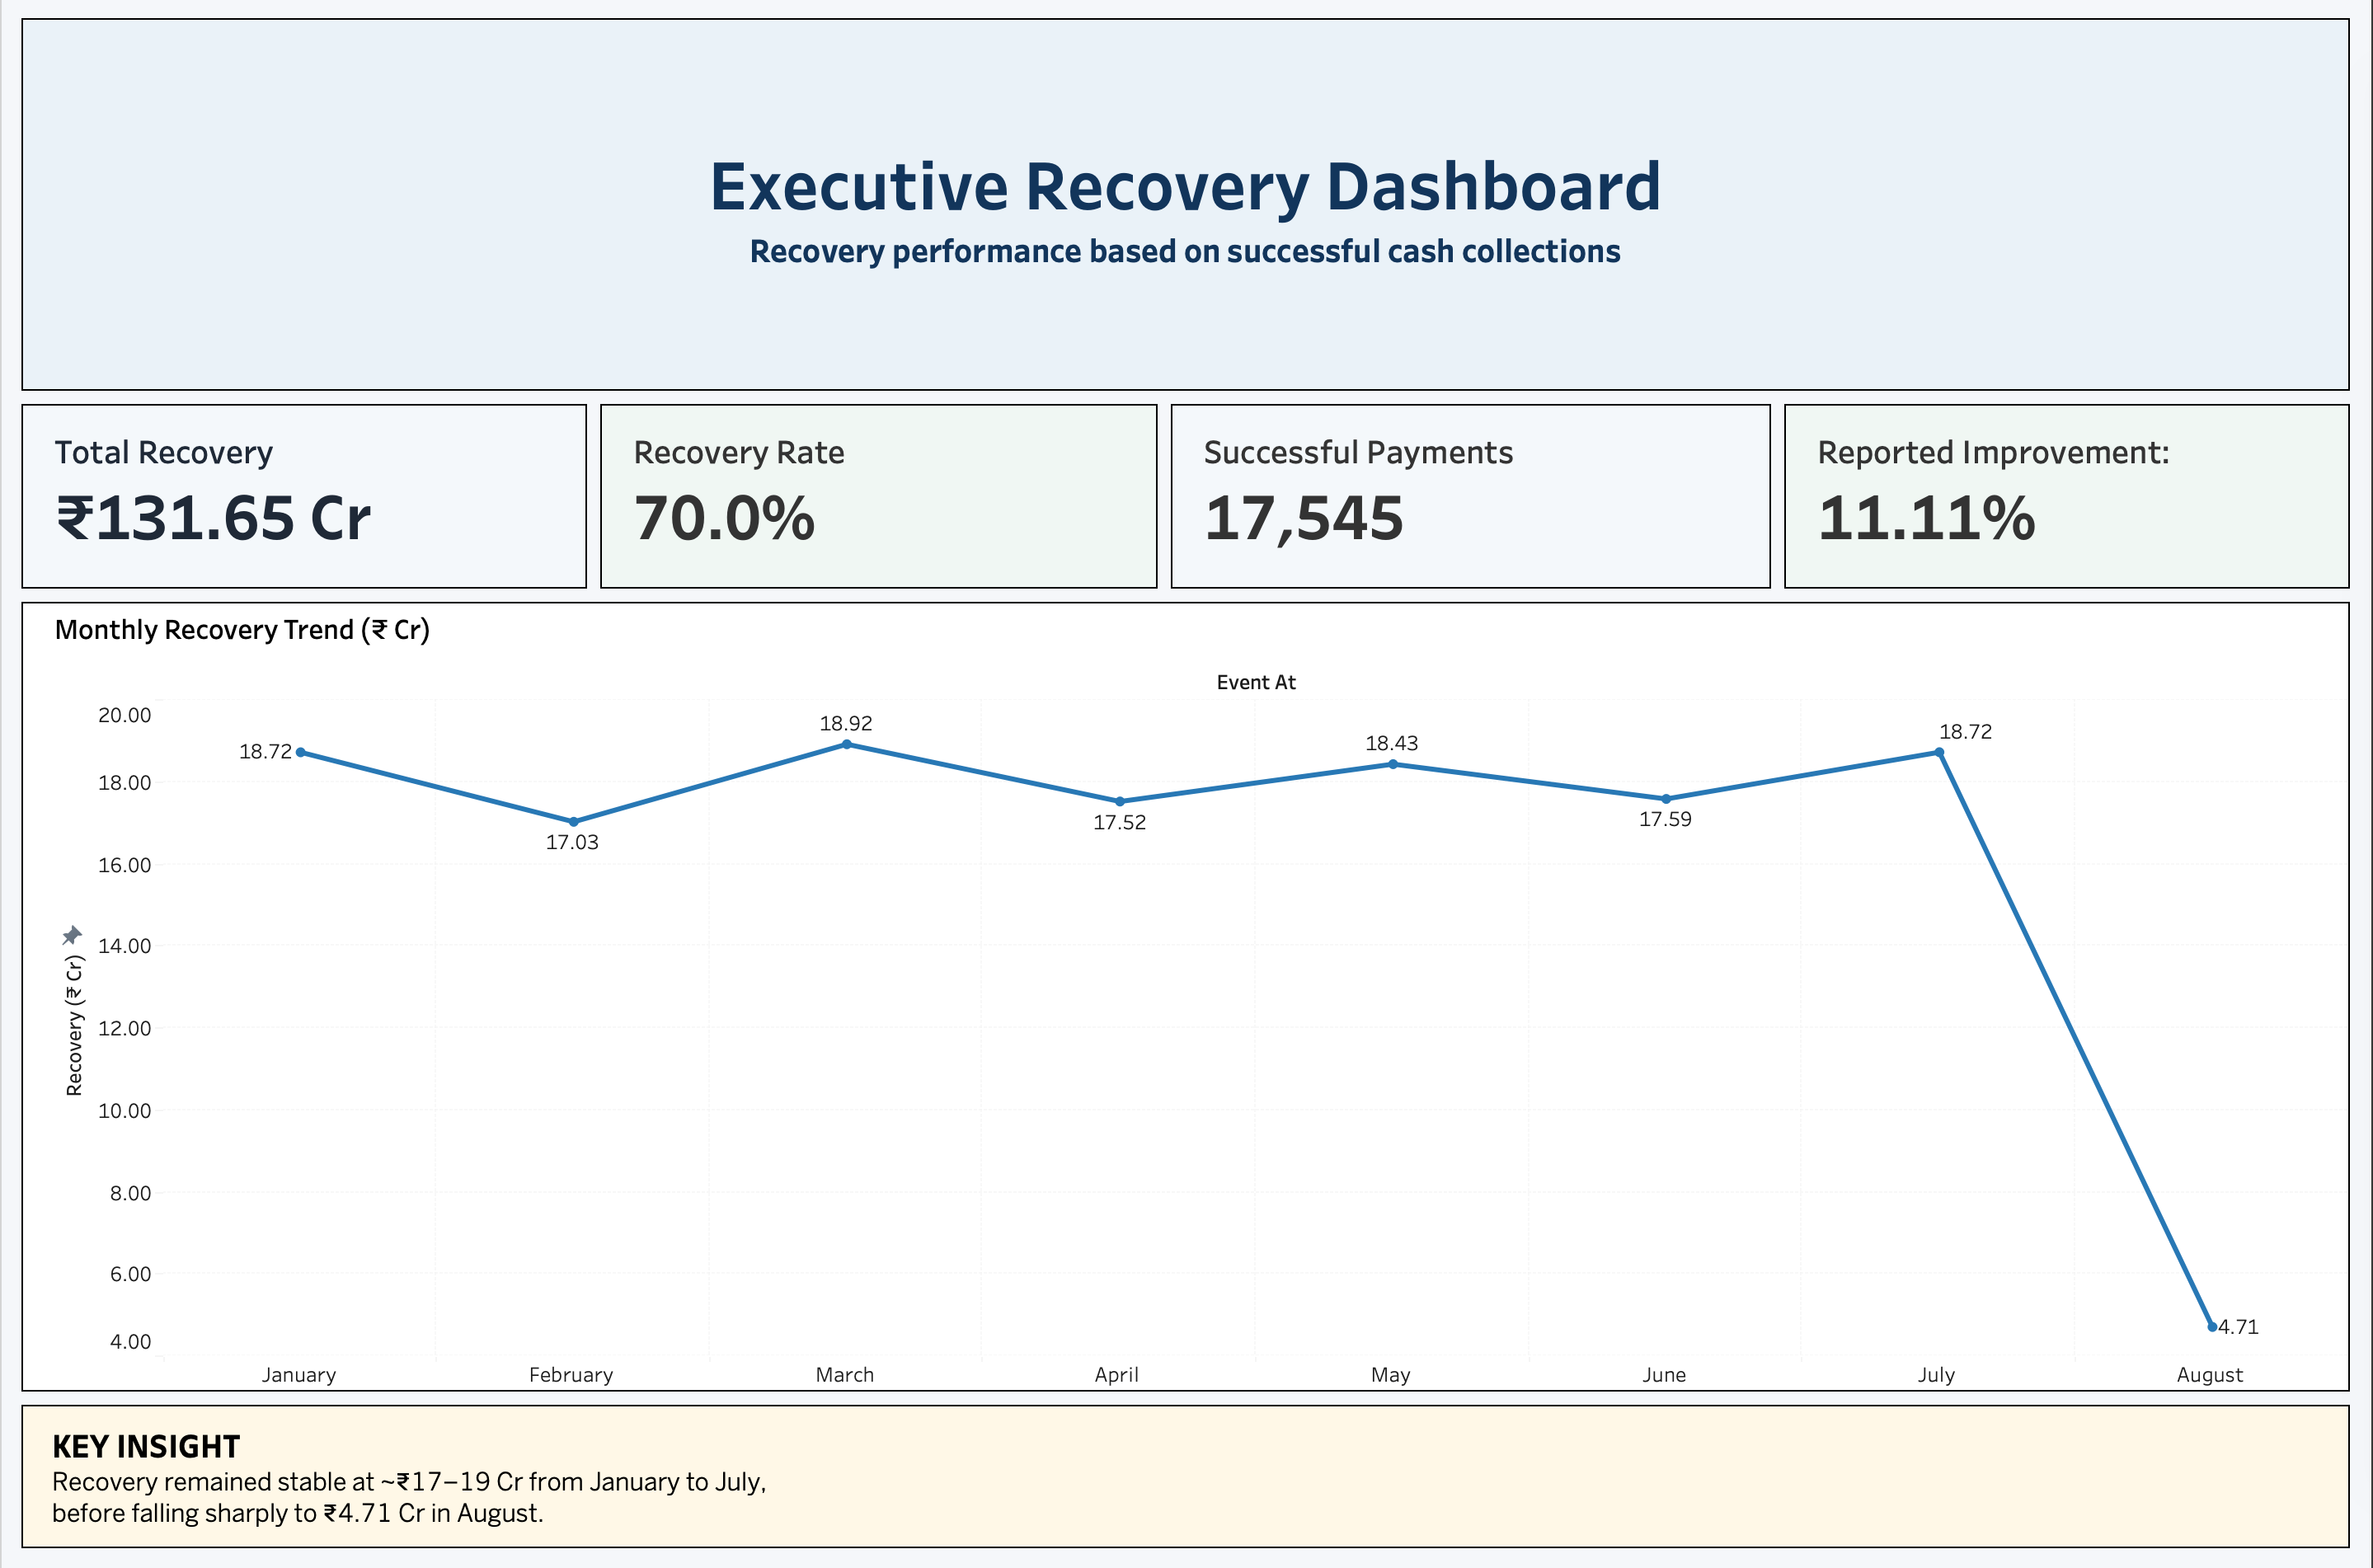

The page's visual inventory and layout, read from the dashboard file:
{"tool":"tableau","page":{"name":"Dashboard 1","canvas":[1000,1000],"units":"permille","ordinal":0},"visuals":[{"type":"text","box":[5.6,8.4,988.9,245.8]},{"type":"worksheet","title":"KPI - TOTAL RECOVERY","mark":"Automatic","box":[5.6,254.2,244.4,126]},{"type":"worksheet","title":"    KPI - Recovery Rate.","mark":"Automatic","box":[250,254.2,241,126]},{"type":"worksheet","title":"KPI - Successful Payments","mark":"Automatic","box":[490.9,254.2,259,126]},{"type":"worksheet","title":"KPI - Reported Improvement","mark":"Automatic","box":[750,254.2,244.4,126]},{"type":"worksheet","title":"Monthly Recovery","mark":"Automatic","rows":["Calculation_1489260301635584"],"cols":["event_at"],"box":[5.6,380.2,988.9,511.6]},{"type":"text","box":[5.6,891.8,988.9,99.8]}]}

Visuals, with their boxes on the dashboard's canvas, which has no fixed pixel size, in thousandths of its width and height (x1, y1, x2, y2). These are canvas units, not pixel positions in the 2373x1568 screenshot, which may show the page scaled, cropped or inside an application window:
text: [x1=6, y1=8, x2=994, y2=254]
"KPI - TOTAL RECOVERY" worksheet: [x1=6, y1=254, x2=250, y2=380]
"    KPI - Recovery Rate." worksheet: [x1=250, y1=254, x2=491, y2=380]
"KPI - Successful Payments" worksheet: [x1=491, y1=254, x2=750, y2=380]
"KPI - Reported Improvement" worksheet: [x1=750, y1=254, x2=994, y2=380]
"Monthly Recovery" worksheet: [x1=6, y1=380, x2=994, y2=892]
text: [x1=6, y1=892, x2=994, y2=992]
